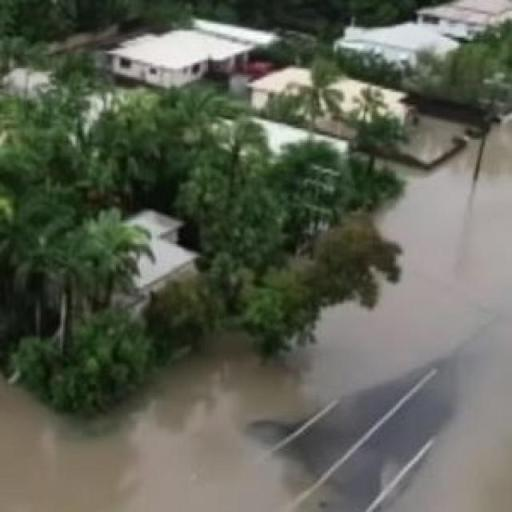flood: (0, 116, 512, 512), (399, 114, 470, 163)
house: (248, 63, 418, 141), (110, 20, 284, 94), (110, 202, 203, 302), (340, 22, 462, 82), (416, 0, 512, 40)
